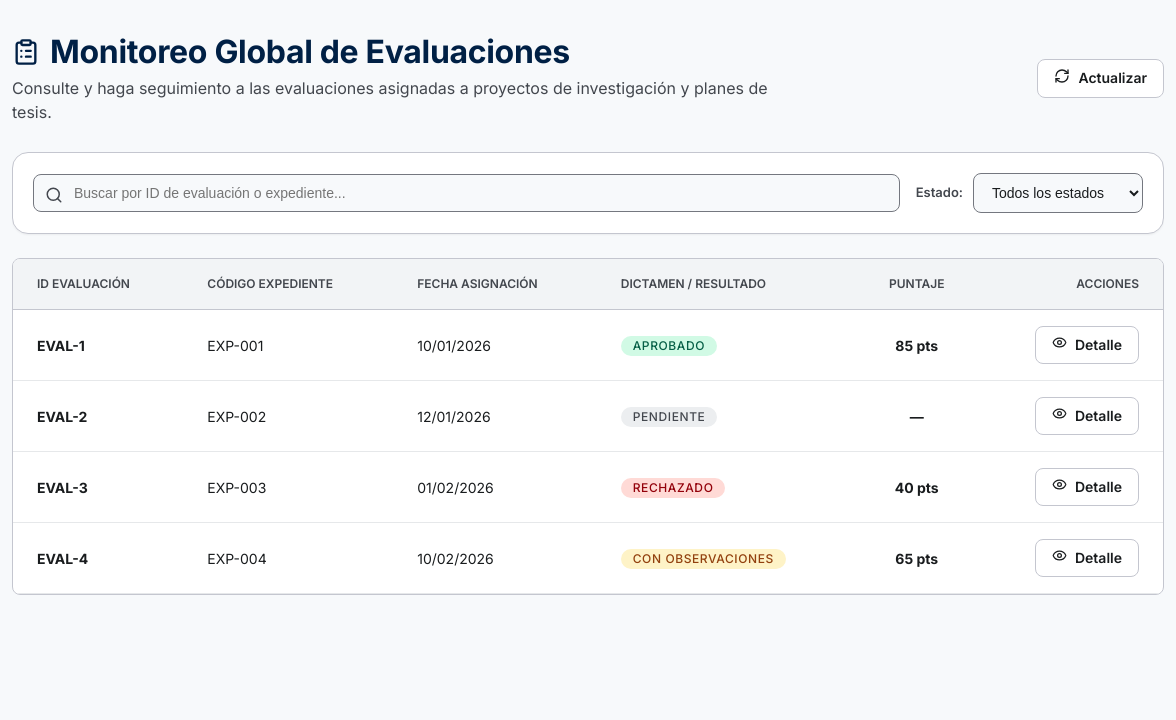
DirectorEvaluations › filters by search query
The width and height of the screenshot is (1176, 720).
Expected: the text "EXP-001" is shown, [183,310,393,380]
In the field: (466, 193) [33,174,900,212], type "EXP-001"
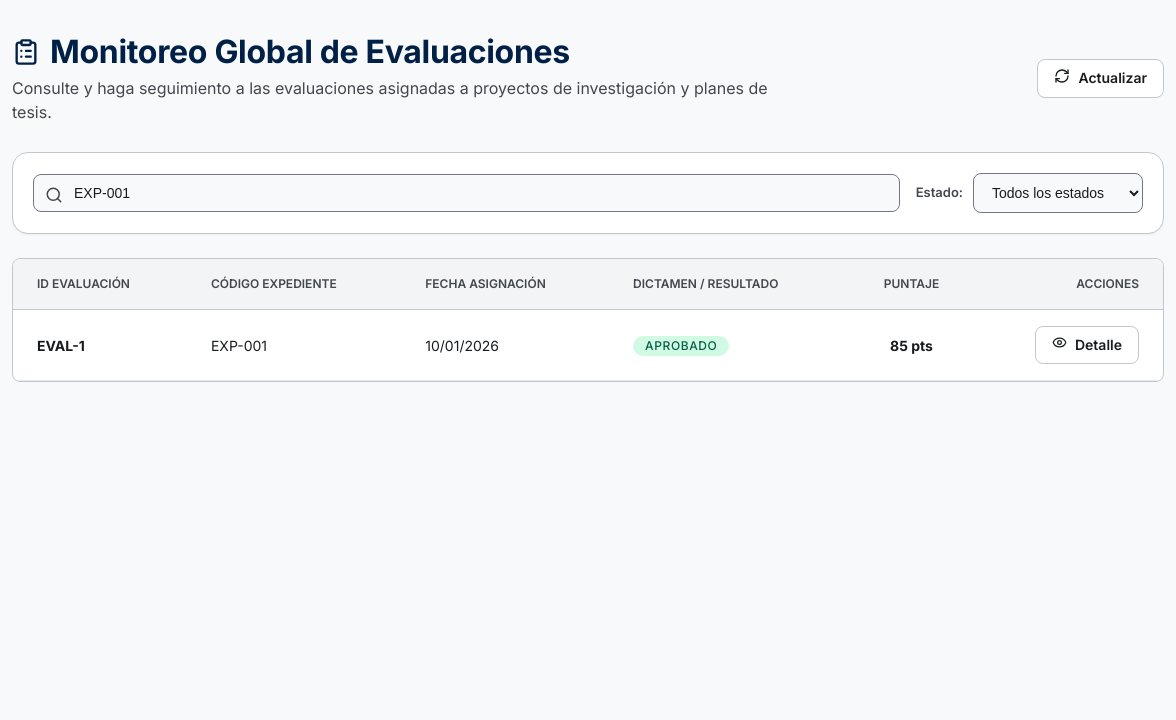
Expected: the text "EXP-001" is shown, [187,310,401,380]
Expected: the text "EXP-002" is gone
